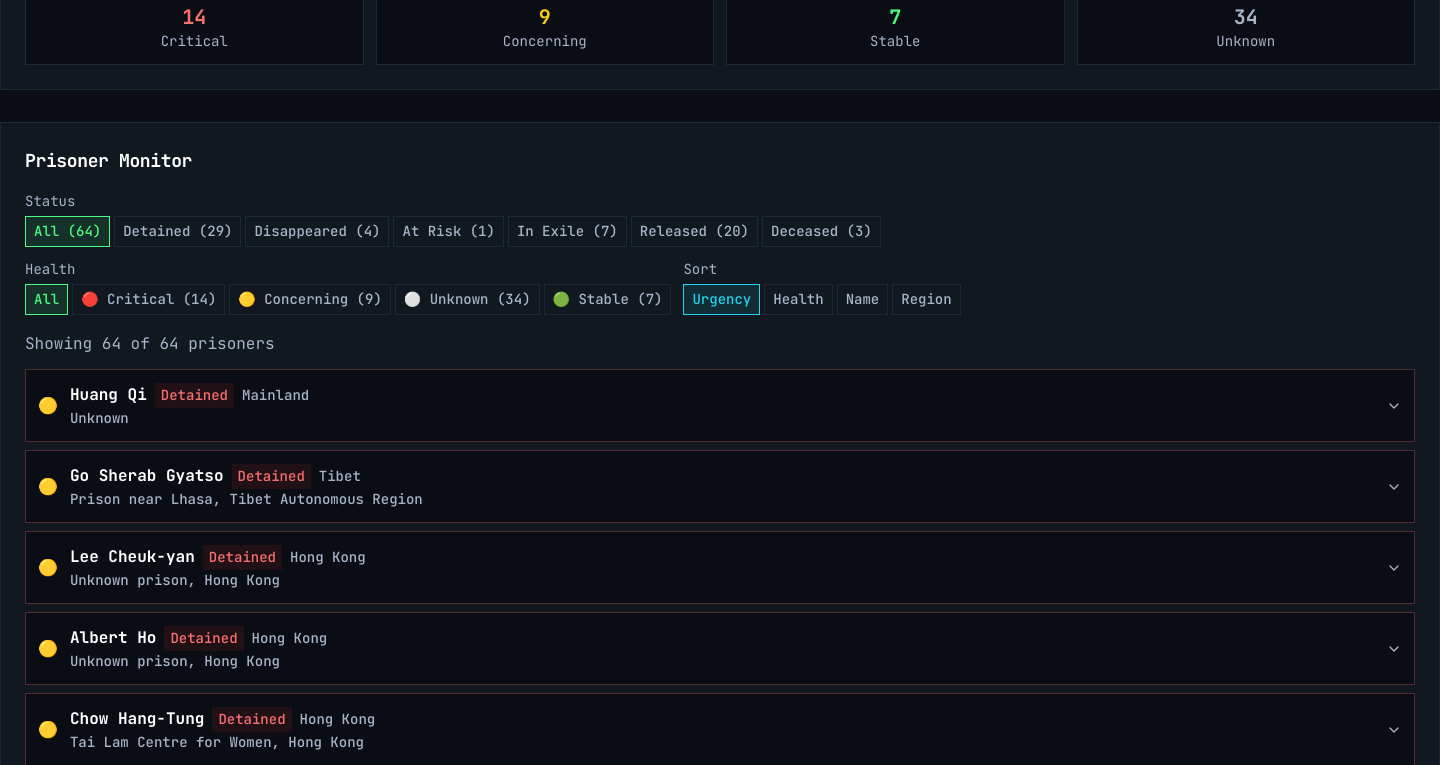
Test case: PrisonerStatusDashboard › expands prisoner details on click
The width and height of the screenshot is (1440, 765).
(page scrolled)
Click the button "🟡 Huang Qi Detained Mainland Unknown".
click(108, 394)  # box [26,370,1414,441]
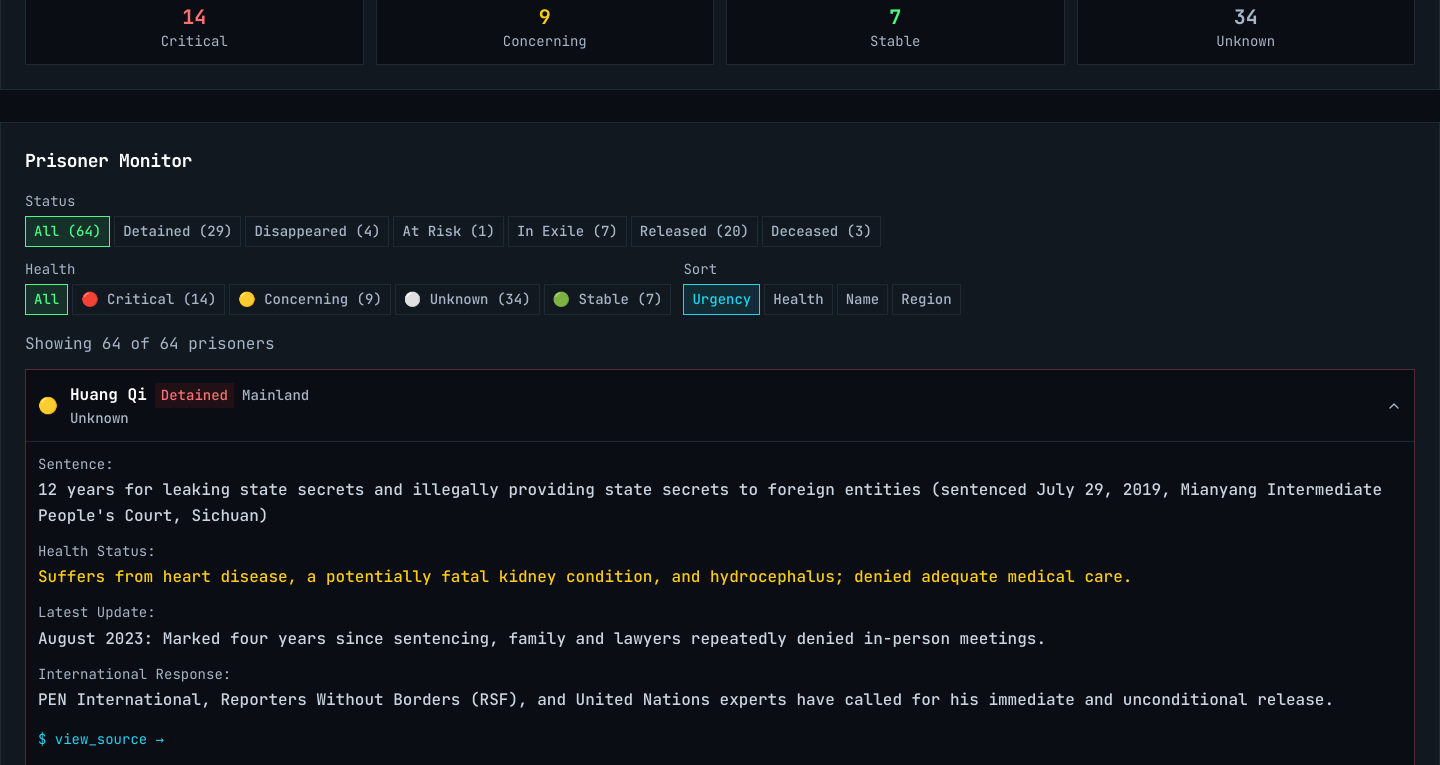
Expected: the button "🟡 Huang Qi Detained Mainland Unknown" is expanded, [26,370,1414,441]
